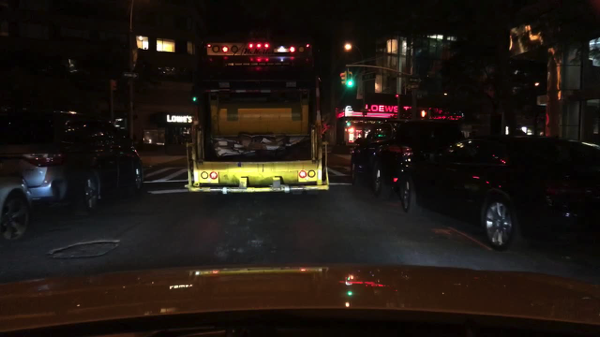car: (396, 134, 599, 257), (0, 104, 145, 216), (348, 120, 464, 202), (0, 166, 35, 245)
traffic light: (346, 71, 353, 87), (339, 70, 346, 85), (418, 107, 428, 117), (191, 93, 196, 103), (347, 120, 351, 127)
traffic sign: (405, 83, 419, 91), (124, 72, 140, 78), (408, 77, 422, 82), (110, 78, 116, 88)
truck: (184, 25, 329, 201)
